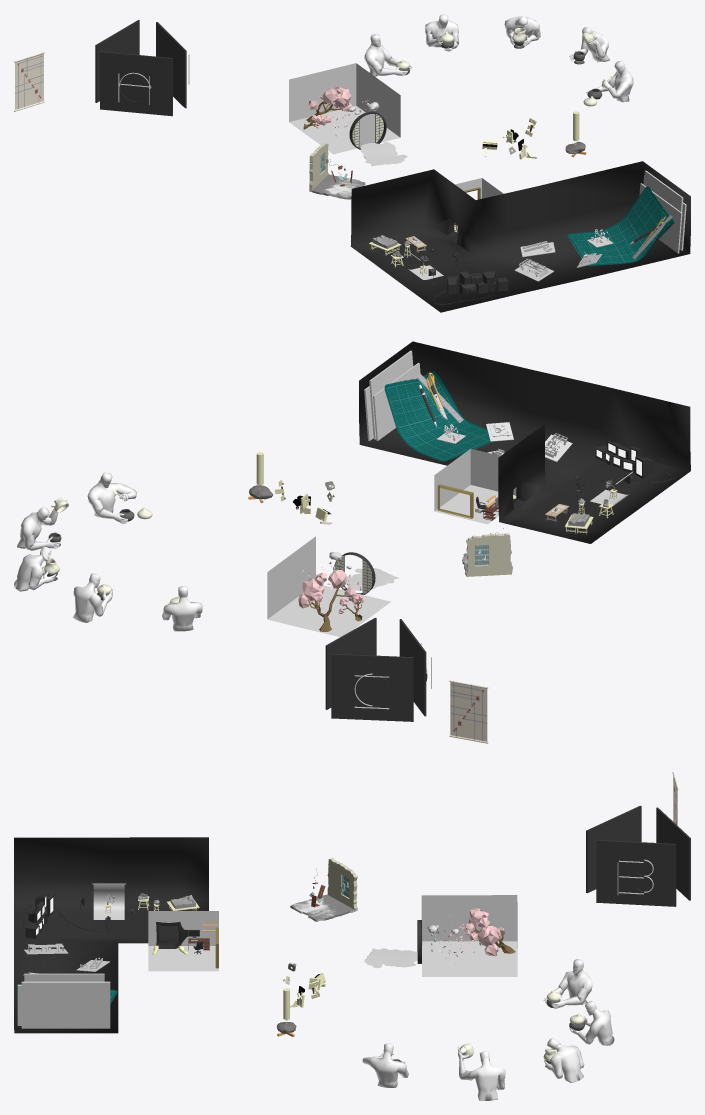
The model's file is stage.glb.
3 views of the same model, one above another, from view 1: azimuth 30°, elevation 25°; view 2: azimuth 150°, elevation 25°; view 3: azimuth 270°, elevation 25° (orthographic). The views are drawn at different scales.
Visible parts, largest first — view 1: monitor-screen-world, digital-world, typo-A-backwall.001, comforting-dinner-baked-johns.003, cutting-mat, three-d-app-modeling-utils, typo-graphic-textile.001, ambience-of-light-wall, analog-tv-shells, typo-B-backwall.001, typo-C-backwall.001, intervention-in-our-disconnection-models (+7 smaller); view 2: monitor-screen-world, comforting-dinner-baked-johns.003, typo-C-backwall.001, digital-world, cutting-mat, room, three-d-app-modeling-utils, typo-graphic-textile.001, ambience-of-light-wall, typo-B-backwall.001, typo-A-backwall.001, intervention-in-our-disconnection-models (+4 smaller); view 3: monitor-screen-world, digital-world, comforting-dinner-baked-johns.003, three-d-app-modeling-utils, typo-B-backwall.001, room, ambience-of-light-wall, typo-A-backwall.001, typo-C-backwall.001, photo-screen.001, intervention-in-our-disconnection-models, analog-tv-shells (+3 smaller).
Boxes of the visible parts, left/top/right/bottom form: monitor-screen-world: left=350, top=161, right=690, bottom=312; digital-world: left=289, top=63, right=400, bottom=154; typo-A-backwall.001: left=100, top=51, right=172, bottom=116; comforting-dinner-baked-johns.003: left=364, top=14, right=633, bottom=102; cutting-mat: left=567, top=186, right=674, bottom=265; three-d-app-modeling-utils: left=629, top=170, right=686, bottom=259; typo-graphic-textile.001: left=15, top=52, right=44, bottom=111; ambience-of-light-wall: left=309, top=143, right=365, bottom=199; analog-tv-shells: left=431, top=256, right=508, bottom=304; typo-B-backwall.001: left=156, top=22, right=186, bottom=108; typo-C-backwall.001: left=95, top=20, right=139, bottom=102; intervention-in-our-disconnection-models: left=482, top=111, right=586, bottom=159; monitor-screen-world: left=359, top=341, right=690, bottom=543; comforting-dinner-baked-johns.003: left=14, top=472, right=202, bottom=631; typo-C-backwall.001: left=331, top=653, right=413, bottom=721; digital-world: left=267, top=536, right=390, bottom=637; cutting-mat: left=384, top=371, right=492, bottom=461; room: left=434, top=448, right=516, bottom=524; three-d-app-modeling-utils: left=364, top=350, right=463, bottom=440; typo-graphic-textile.001: left=450, top=680, right=487, bottom=743; ambience-of-light-wall: left=462, top=533, right=512, bottom=576; typo-B-backwall.001: left=325, top=617, right=376, bottom=709; typo-A-backwall.001: left=399, top=619, right=426, bottom=716; intervention-in-our-disconnection-models: left=248, top=452, right=334, bottom=524; monitor-screen-world: left=14, top=837, right=208, bottom=1033; digital-world: left=421, top=895, right=517, bottom=976; comforting-dinner-baked-johns.003: left=362, top=959, right=614, bottom=1100; three-d-app-modeling-utils: left=17, top=973, right=110, bottom=1028; typo-B-backwall.001: left=596, top=840, right=676, bottom=906; room: left=148, top=911, right=218, bottom=971; ambience-of-light-wall: left=290, top=858, right=357, bottom=921; typo-A-backwall.001: left=586, top=805, right=641, bottom=893; typo-C-backwall.001: left=656, top=807, right=690, bottom=900; photo-screen.001: left=93, top=883, right=124, bottom=919; intervention-in-our-disconnection-models: left=276, top=963, right=326, bottom=1036; analog-tv-shells: left=19, top=894, right=106, bottom=938.
Bounding box in the file's own units: 909 × 109 × 972.
65 materials, 4 textured.
